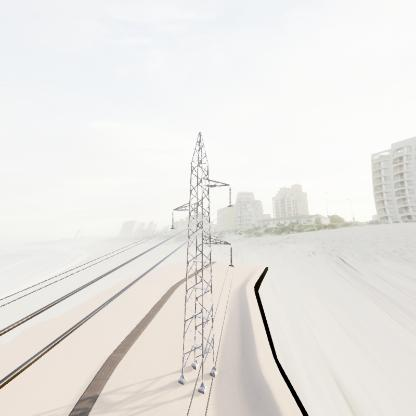tower: (165, 132, 240, 398)
